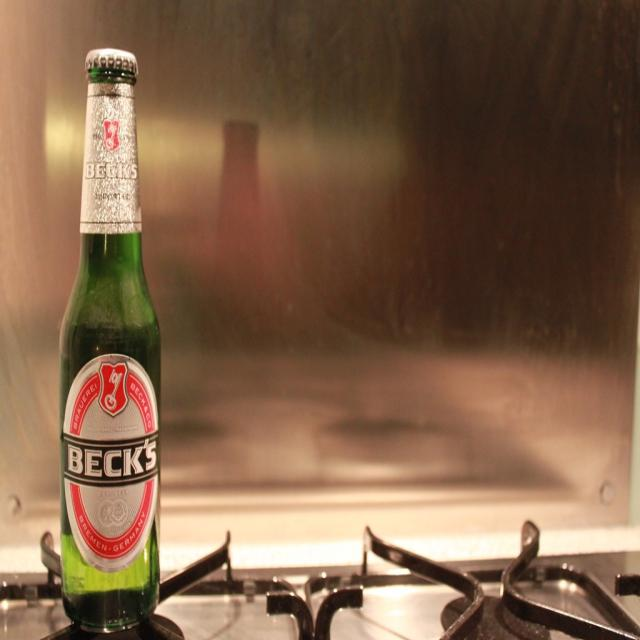becks: (64, 355, 161, 574)
